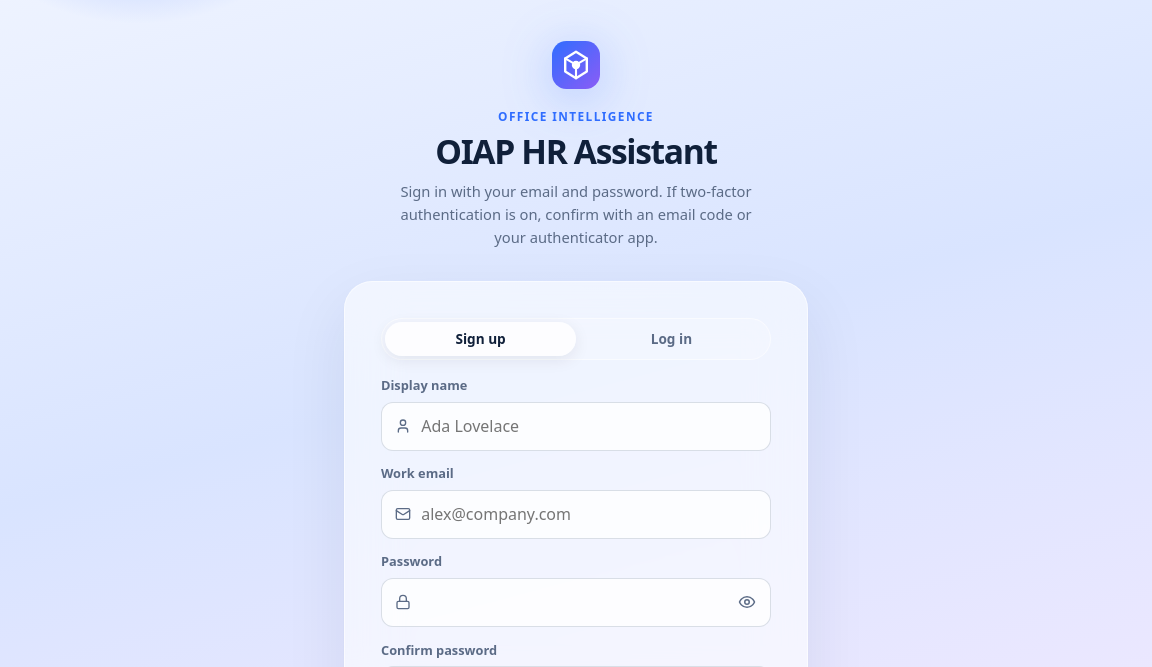
it: authentication › asks the user to check Gmail when SMTP delivered the OTP
The image size is (1152, 667).
In the field labelled "Display name": coordinates (576, 426) [381,402,771,451], type "Ada"
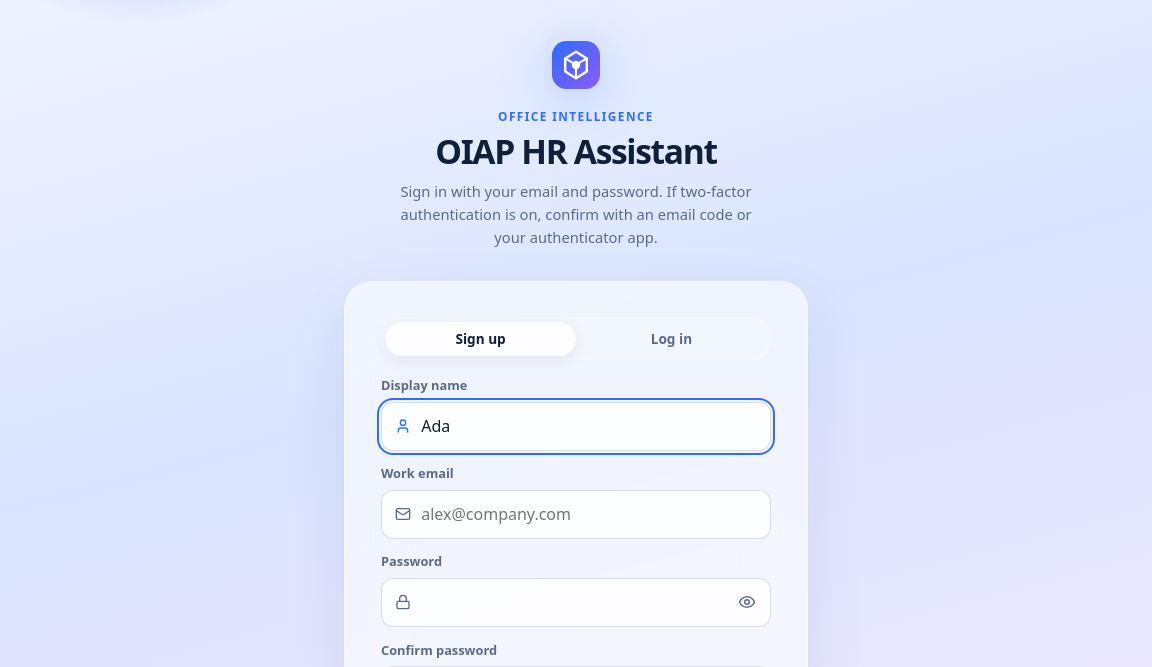
In the field labelled "Work email": coordinates (576, 514) [381,490,771,539], type "ada@example.com"
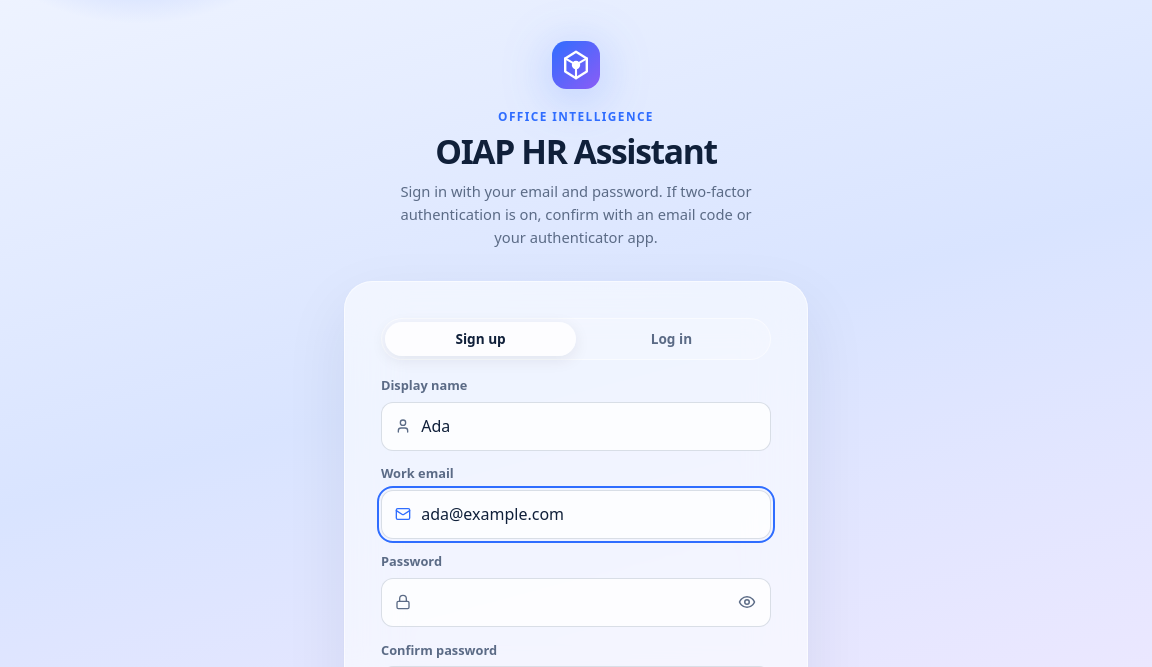
In the password field labelled "Password": coordinates (576, 602) [381,578,771,627], type "Password12!"
(page scrolled)
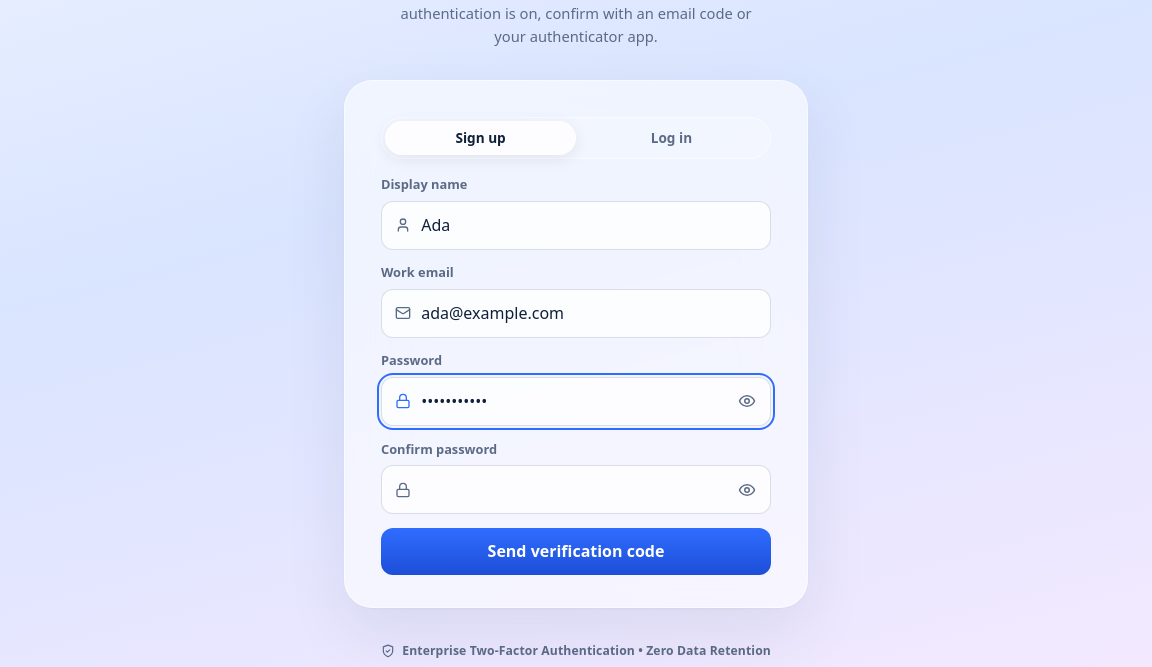
In the password field labelled "Confirm password": coordinates (576, 490) [381,465,771,514], type "Password12!"
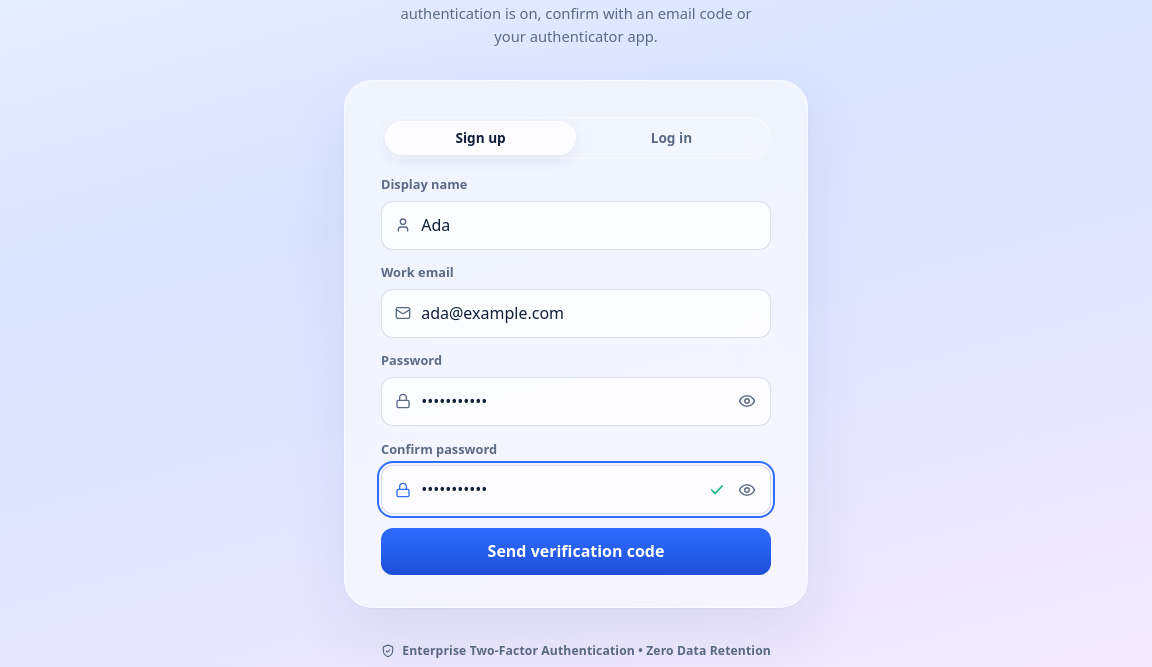
Click the button "Send verification code": coordinates (576, 551) [381,528,771,575]
(page scrolled)
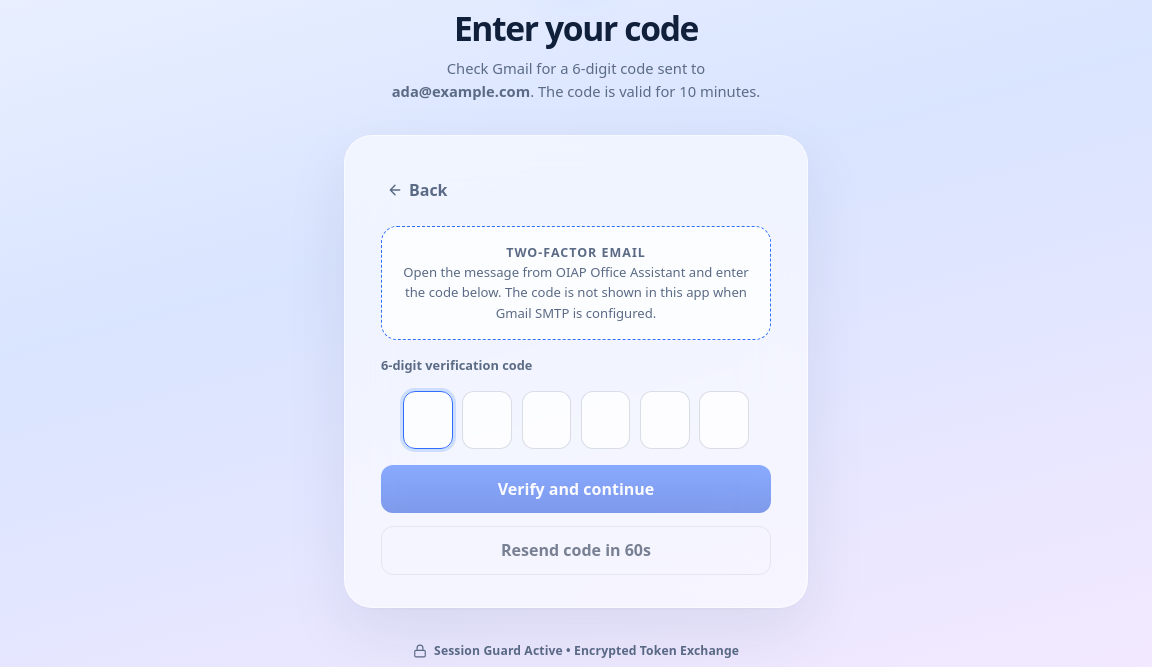
Expected: the text "Check Gmail" is shown, [447,58,705,78]
